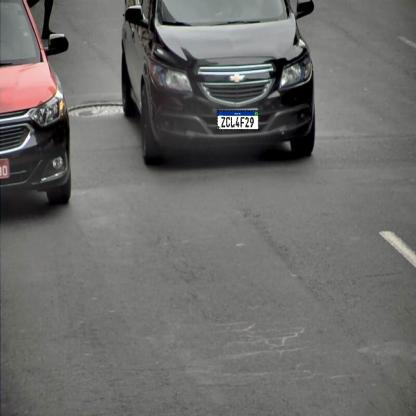PlacaM: (217, 110, 259, 131)
